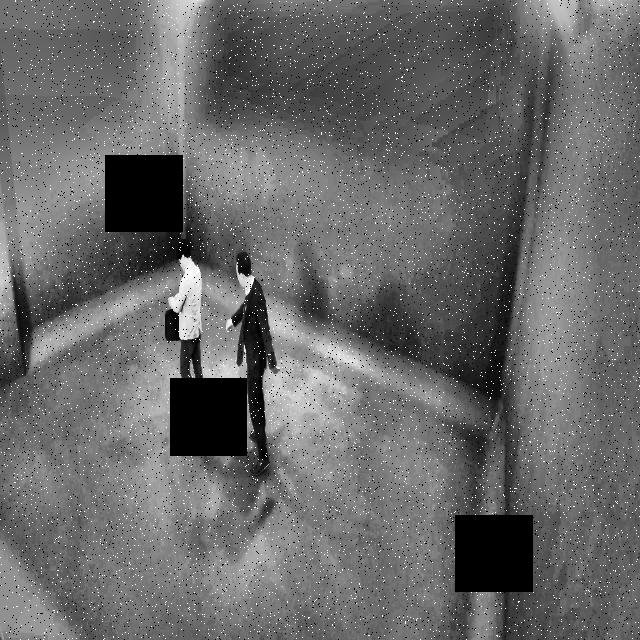assult: (166, 222, 280, 478)
